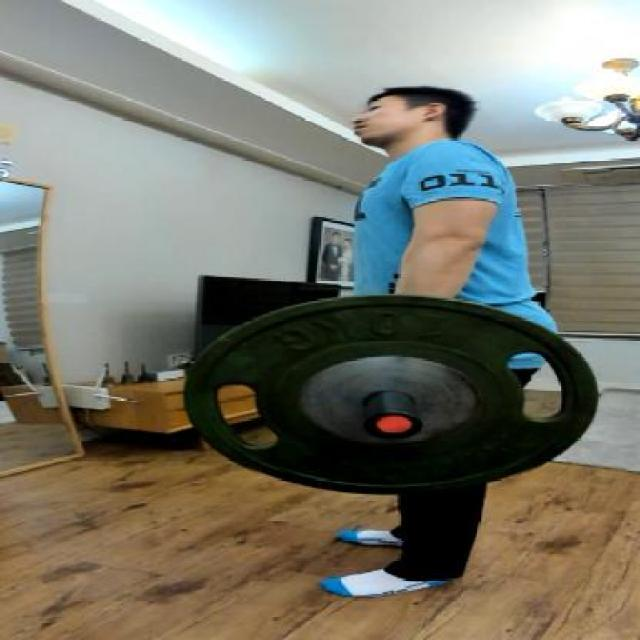Barbell: (354, 408, 434, 446)
